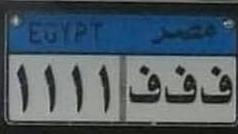1: (42, 62, 57, 117), (97, 64, 113, 113), (16, 62, 29, 110), (71, 64, 82, 111)
faa: (164, 65, 197, 104), (201, 65, 233, 105), (129, 66, 162, 103)
